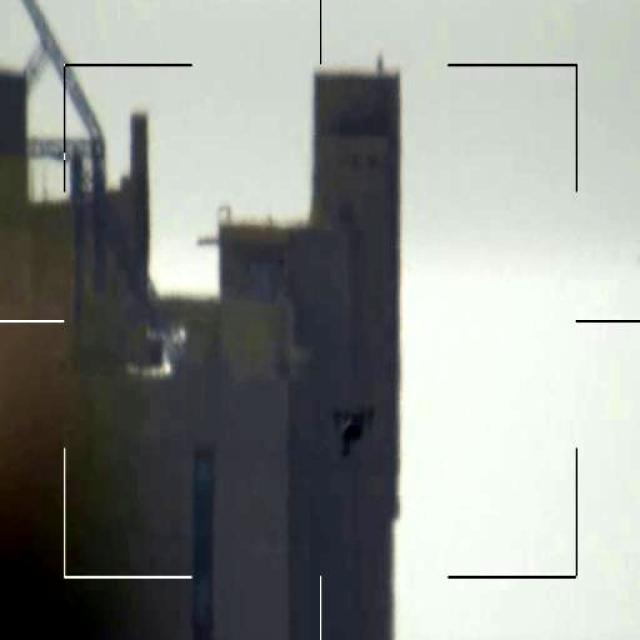bird: (334, 396, 385, 469)
